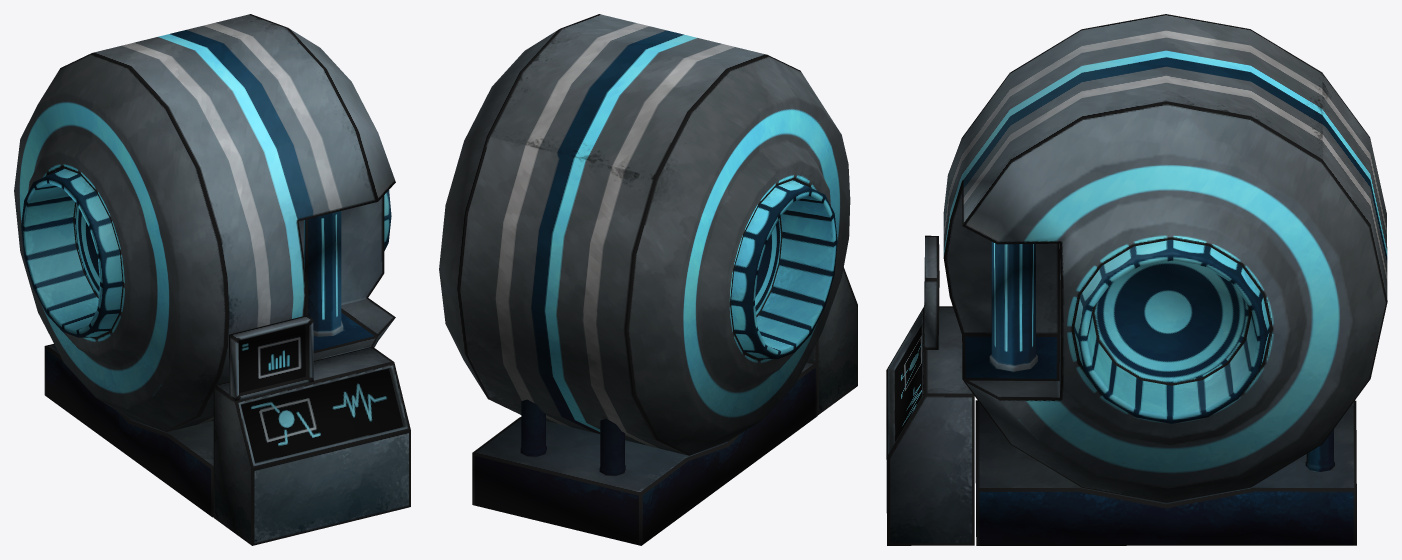
File: EnergyNode.glb
3 renders of one model, left to right at view 1: azimuth 30°, elevation 25°; view 2: azimuth 150°, elevation 25°; view 3: azimuth 270°, elevation 25°, orthographic. The views are drawn at different scales.
Visible parts, largest first — view 1: Energy Node; view 2: Energy Node; view 3: Energy Node.
Part boxes in pixels (bbox=[...]): Energy Node: bbox=[14, 14, 410, 545]; Energy Node: bbox=[439, 14, 857, 545]; Energy Node: bbox=[886, 14, 1387, 545].
Bounding box in the file's own units: 5.49 × 7.08 × 7.25.
Materials: 1 (1 with a texture image).
